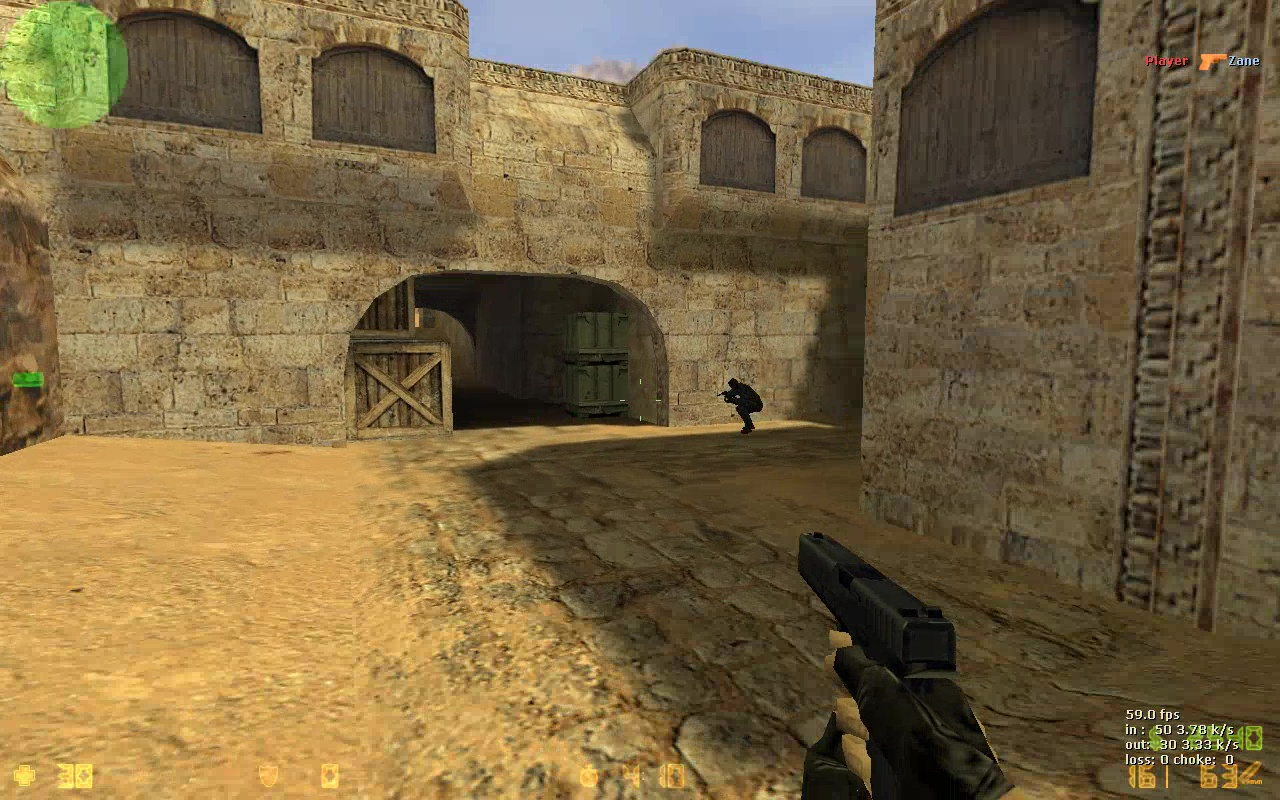ct: (718, 379, 766, 436)
